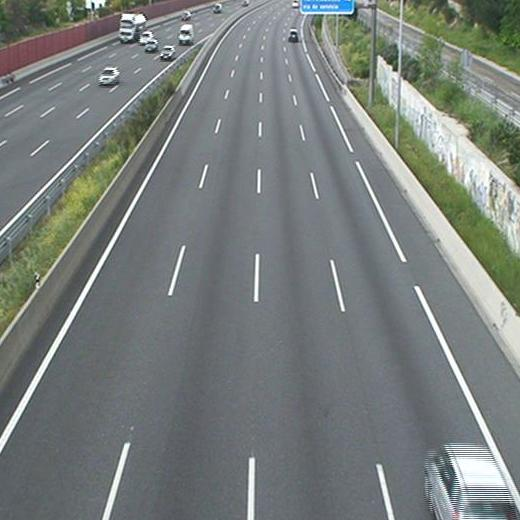car: (424, 444, 519, 520), (288, 29, 298, 43)
